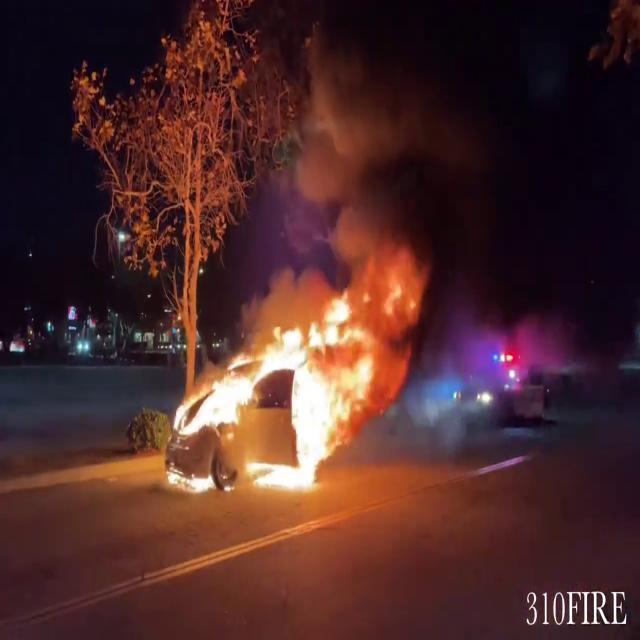Fire: (162, 297, 400, 495)
Smoke: (279, 1, 639, 376)
